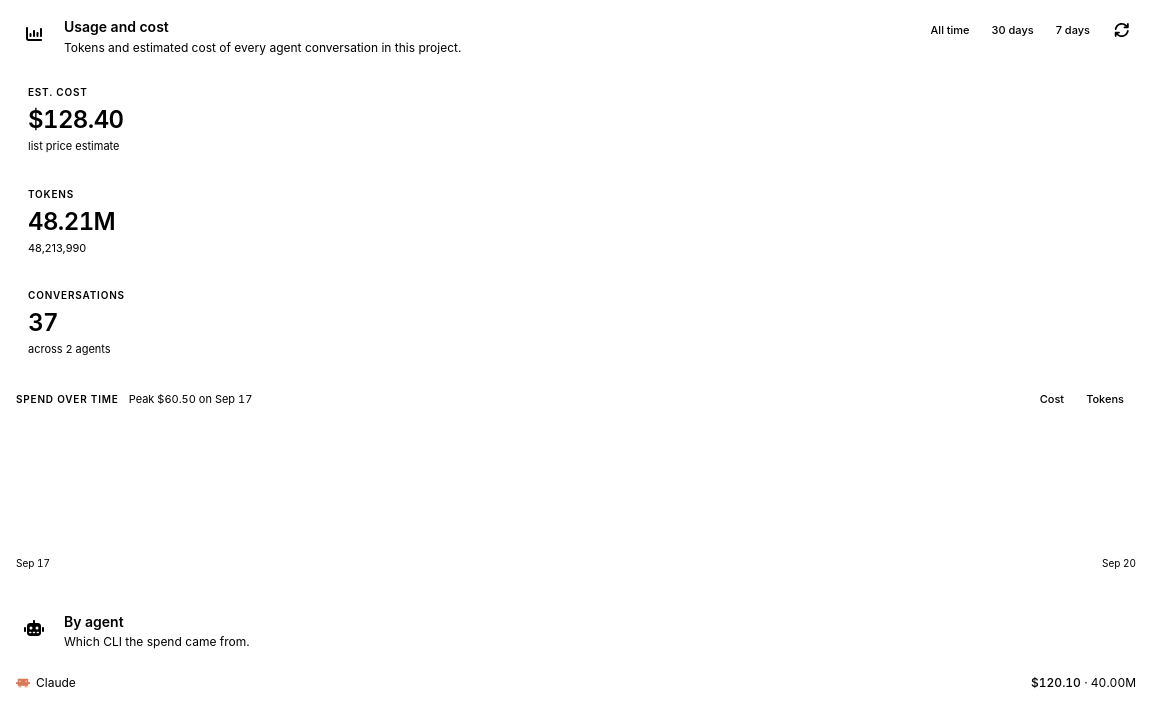
ProjectUsageTab chart › switches to tokens on request
Expected: the text "$128.40" is shown, [28,105,124,134]
Click the button "Tokens" at (1105, 400), box [1076,388,1134,412]
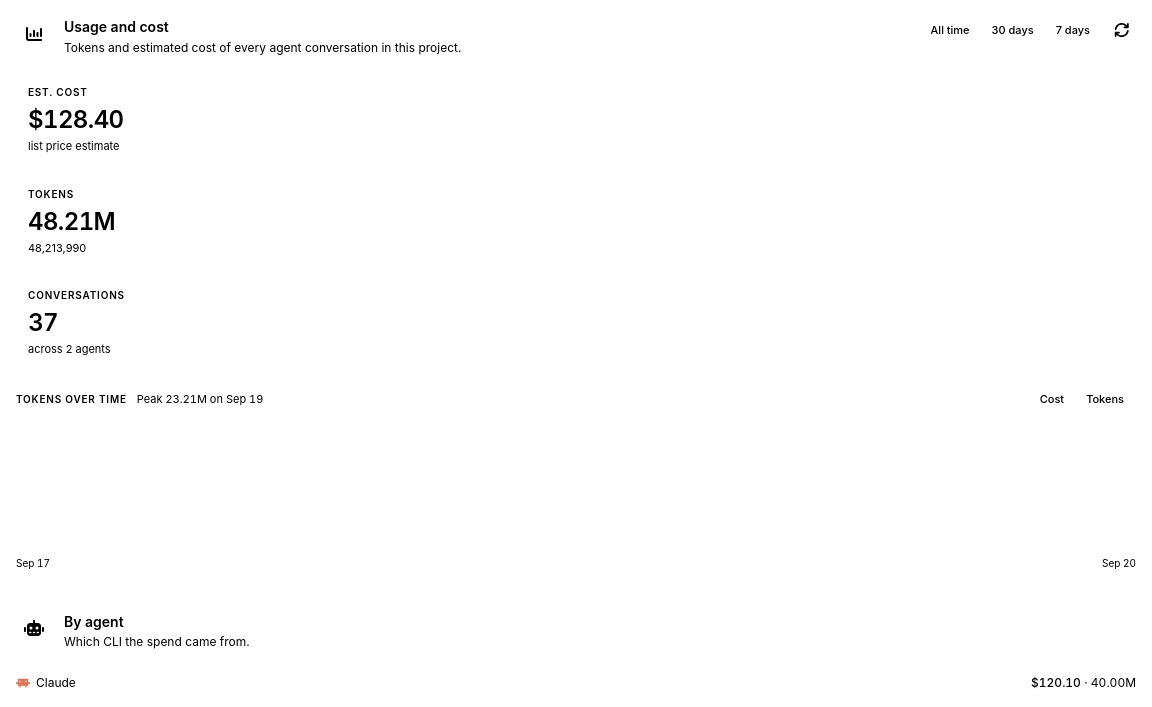
Expected: the text "Peak 23.21M on Sep 19" is shown, [137,391,263,408]
